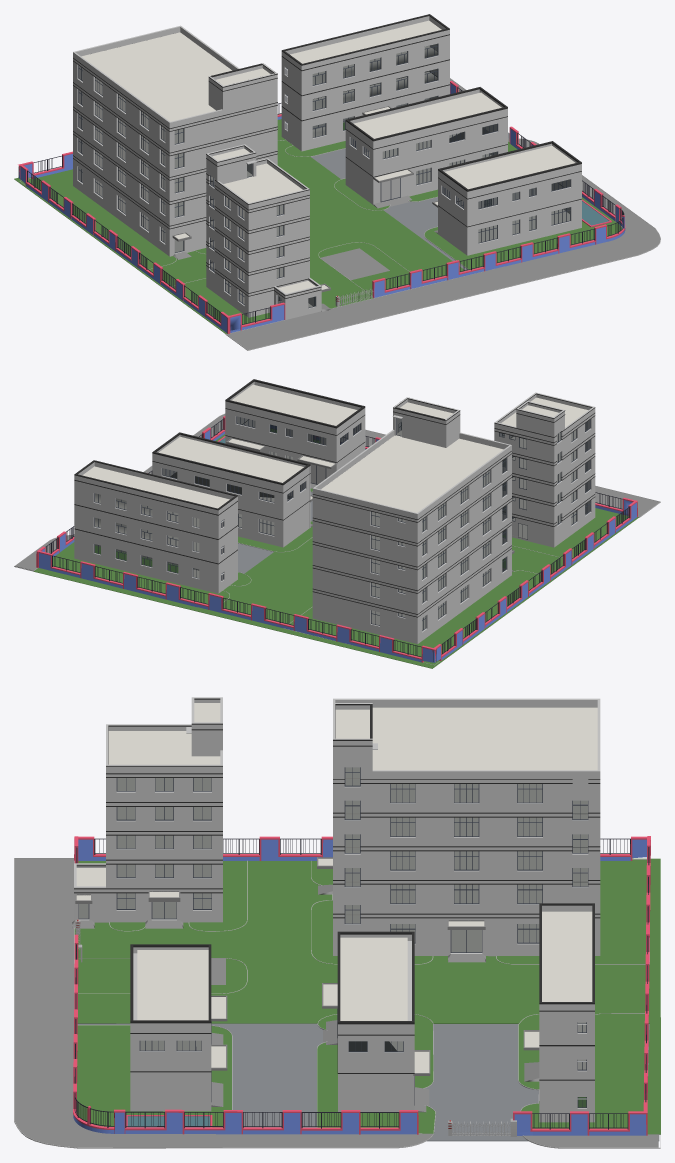
File: factory.obj
3 renders of one model, top to bottom at view 1: azimuth 30°, elevation 25°; view 2: azimuth 150°, elevation 25°; view 3: azimuth 270°, elevation 25°, orthographic. The views are drawn at different scales.
Visible parts, largest first — view 1: Obj3d66_570601_208_59, Obj3d66_570601_161_243, Obj3d66_570601_206_739, Obj3d66_570601_203_586, Obj3d66_570601_164_122, Obj3d66_570601_50_635, Obj3d66_570601_174_284, Obj3d66_570601_356_302, Obj3d66_570601_123_904, Obj3d66_570601_71_510, Obj3d66_570601_59_625, Obj3d66_570601_350_521 (+38 smaller); view 2: Obj3d66_570601_208_59, Obj3d66_570601_167_467, Obj3d66_570601_51_662, Obj3d66_570601_161_243, Obj3d66_570601_174_284, Obj3d66_570601_72_510, Obj3d66_570601_350_521, Obj3d66_570601_59_625, Obj3d66_570601_131_455, Obj3d66_570601_150_394, Obj3d66_570601_349_504, Obj3d66_570601_348_145 (+33 smaller); view 3: Obj3d66_570601_208_59, Obj3d66_570601_158_850, Obj3d66_570601_203_586, Obj3d66_570601_206_739, Obj3d66_570601_213_279, Obj3d66_570601_174_284, Obj3d66_570601_57_461, Obj3d66_570601_160_576, Obj3d66_570601_137_55, Obj3d66_570601_350_521, Obj3d66_570601_111_982, Obj3d66_570601_41_395 (+33 smaller).
Boxes of the visible parts, x1,y1,x2,y2 form: Obj3d66_570601_208_59: [14, 113, 464, 333]; Obj3d66_570601_161_243: [73, 51, 171, 256]; Obj3d66_570601_206_739: [226, 78, 660, 349]; Obj3d66_570601_203_586: [20, 119, 621, 324]; Obj3d66_570601_164_122: [169, 73, 277, 256]; Obj3d66_570601_50_635: [301, 30, 449, 151]; Obj3d66_570601_174_284: [81, 32, 231, 121]; Obj3d66_570601_356_302: [466, 164, 581, 255]; Obj3d66_570601_123_904: [372, 109, 506, 205]; Obj3d66_570601_71_510: [247, 188, 309, 317]; Obj3d66_570601_59_625: [206, 153, 250, 317]; Obj3d66_570601_350_521: [19, 83, 625, 332]; Obj3d66_570601_208_59: [33, 508, 638, 668]; Obj3d66_570601_167_467: [313, 488, 418, 643]; Obj3d66_570601_51_662: [76, 475, 219, 593]; Obj3d66_570601_161_243: [416, 445, 511, 643]; Obj3d66_570601_174_284: [321, 430, 503, 512]; Obj3d66_570601_72_510: [496, 409, 554, 547]; Obj3d66_570601_350_521: [39, 425, 636, 662]; Obj3d66_570601_59_625: [553, 406, 594, 547]; Obj3d66_570601_131_455: [154, 454, 284, 547]; Obj3d66_570601_150_394: [227, 402, 337, 477]; Obj3d66_570601_349_504: [45, 418, 629, 661]; Obj3d66_570601_348_145: [36, 416, 637, 662]; Obj3d66_570601_208_59: [74, 858, 660, 1134]; Obj3d66_570601_158_850: [333, 738, 600, 955]; Obj3d66_570601_203_586: [77, 860, 646, 1133]; Obj3d66_570601_206_739: [14, 858, 658, 1147]; Obj3d66_570601_213_279: [77, 1023, 659, 1141]; Obj3d66_570601_174_284: [345, 707, 597, 778]; Obj3d66_570601_57_461: [106, 764, 222, 922]; Obj3d66_570601_160_576: [345, 767, 587, 952]; Obj3d66_570601_137_55: [130, 1023, 211, 1111]; Obj3d66_570601_350_521: [73, 839, 646, 1135]; Obj3d66_570601_111_982: [338, 1024, 414, 1111]; Obj3d66_570601_41_395: [542, 1004, 594, 1122].
Bounding box in the file's own units: 64800 × 23726 × 61093.
